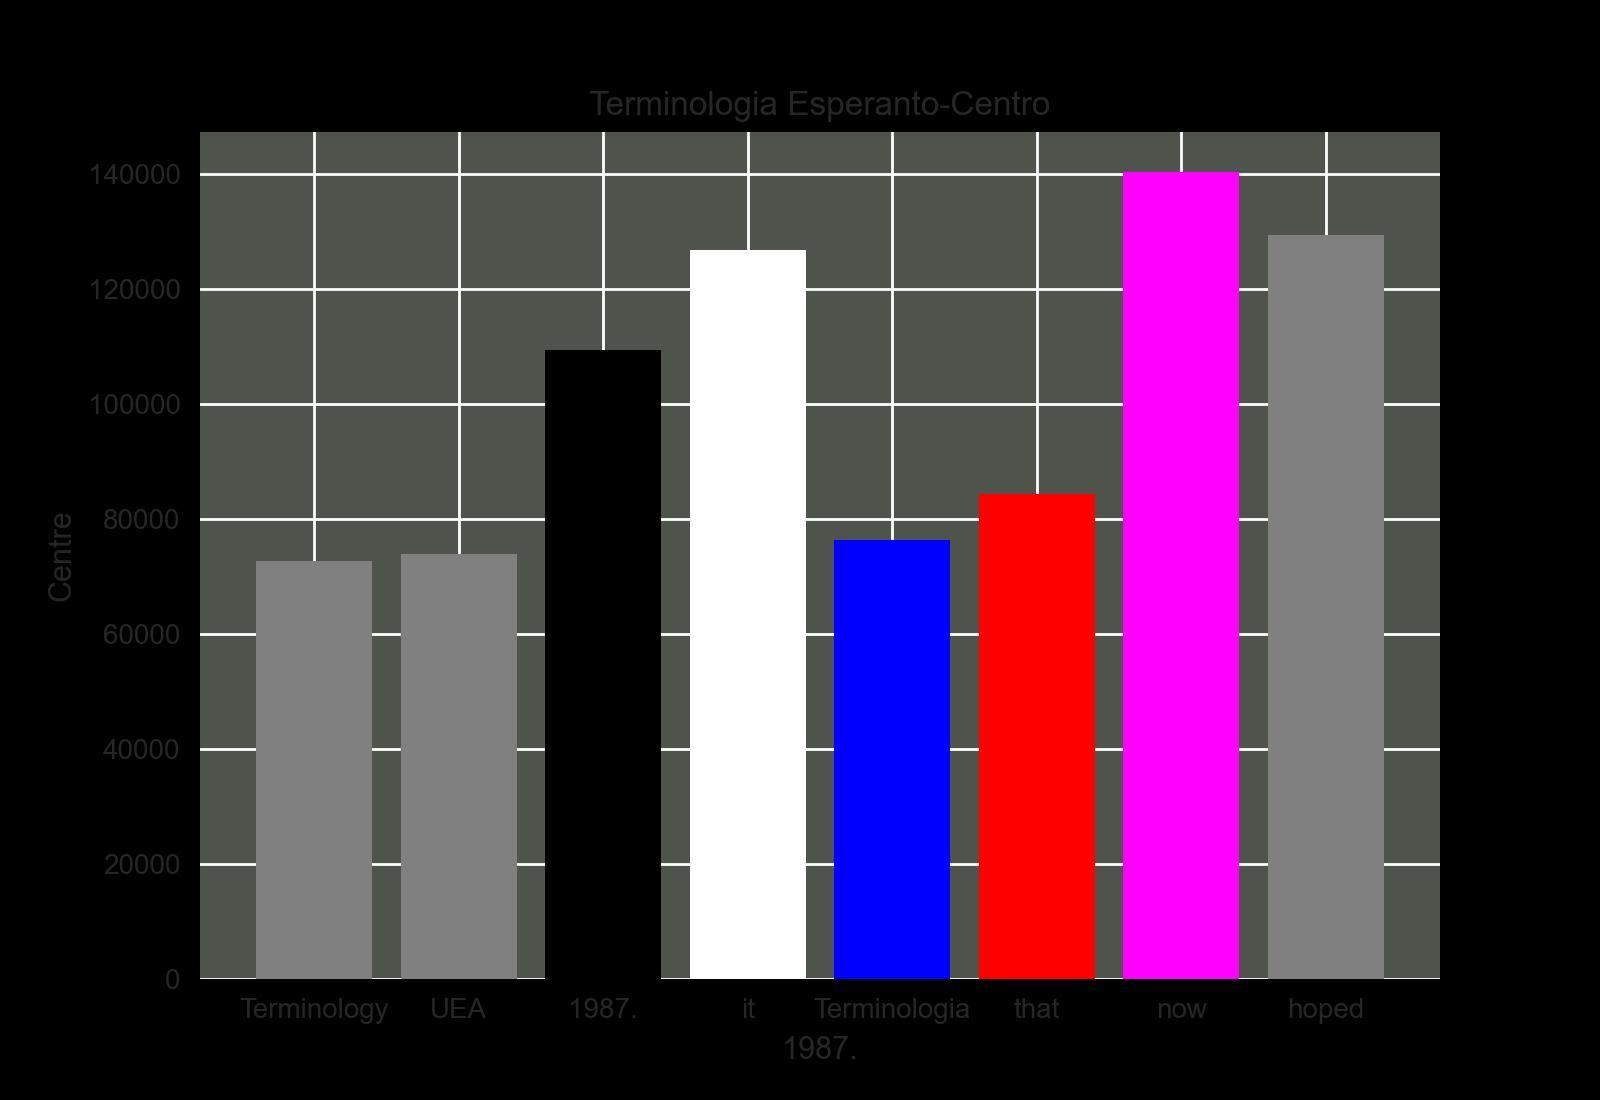axis: (47, 164, 180, 995)
rectangle: (1123, 173, 1239, 978), (1268, 235, 1384, 978), (689, 250, 806, 978), (545, 350, 661, 978), (979, 493, 1095, 978), (834, 540, 951, 978), (400, 554, 517, 978), (257, 562, 372, 978)
